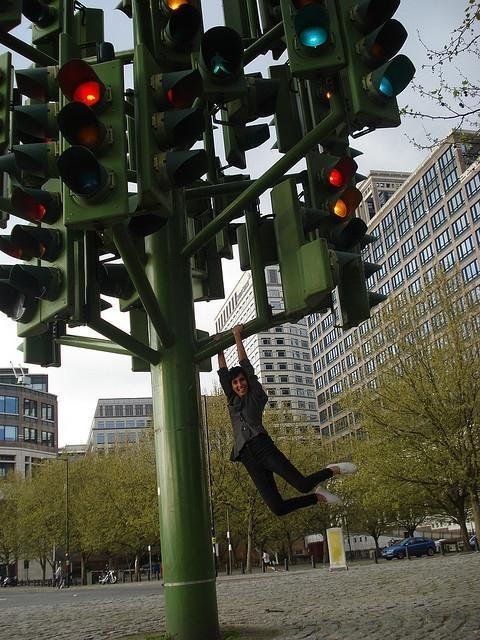car: (383, 536, 436, 561), (457, 534, 476, 550), (434, 540, 447, 546)
